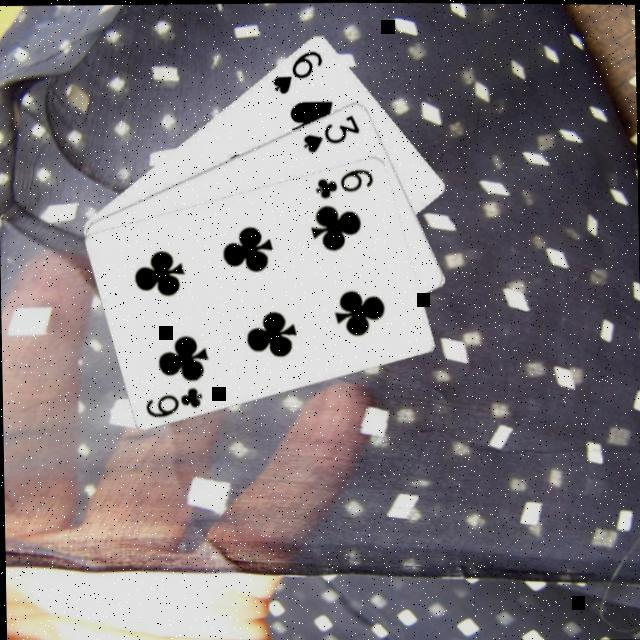3S: (298, 112, 360, 157)
6C: (310, 165, 374, 202), (140, 384, 204, 421)
6S: (266, 47, 324, 98)
